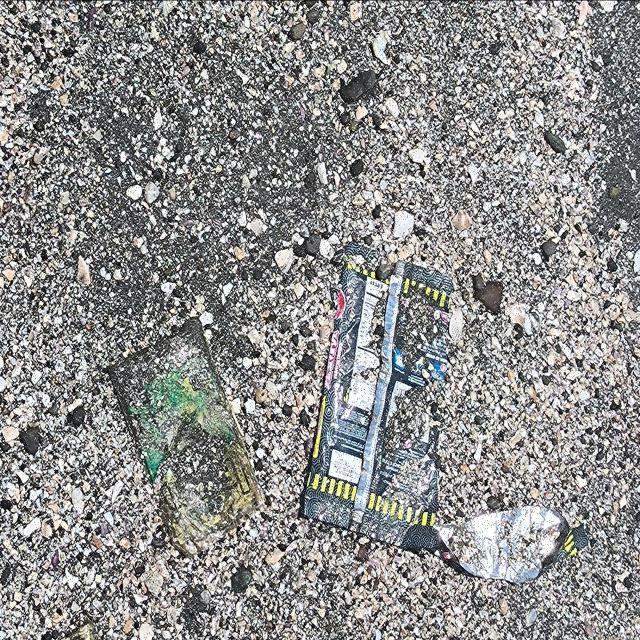plastic_waste: (303, 238, 591, 584), (107, 316, 270, 552)
